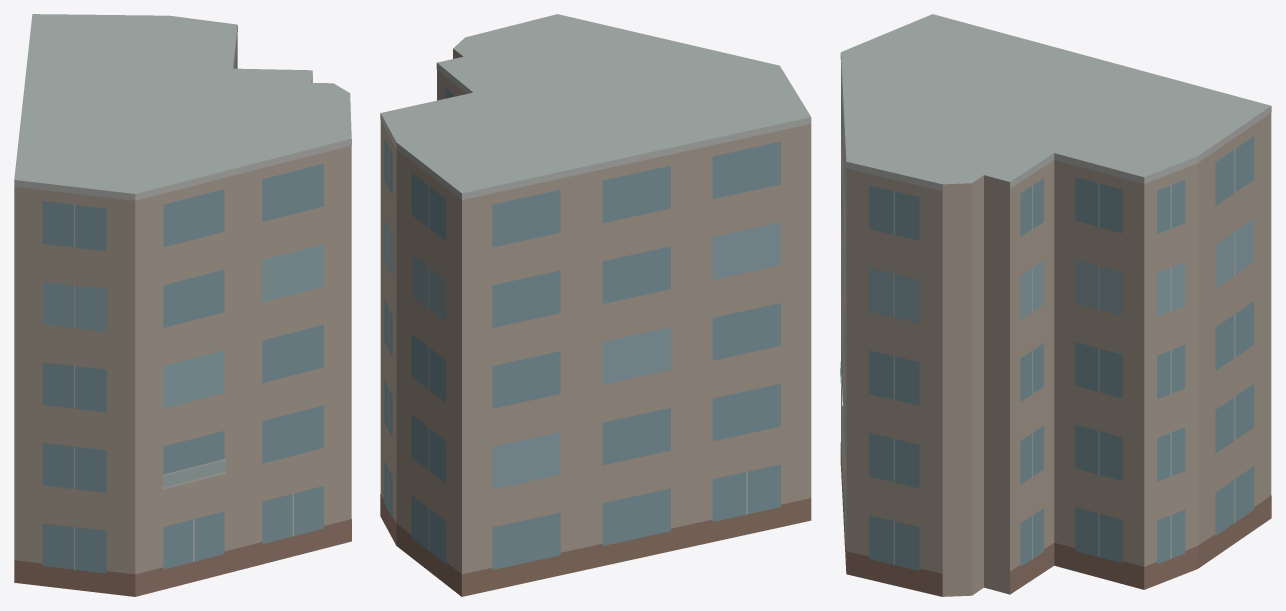
File: survey-upis-33011679.glb
3 renders of one model, left to right at view 1: azimuth 30°, elevation 25°; view 2: azimuth 150°, elevation 25°; view 3: azimuth 270°, elevation 25°, orthographic. The views are drawn at different scales.
Parts seen in each view (by area): view 1: survey-upis-33011679.tmp; view 2: survey-upis-33011679.tmp; view 3: survey-upis-33011679.tmp.
Part boxes in pixels (left/top/right/bottom): survey-upis-33011679.tmp: left=14, top=14, right=351, bottom=596; survey-upis-33011679.tmp: left=380, top=14, right=811, bottom=596; survey-upis-33011679.tmp: left=840, top=14, right=1271, bottom=596.
Bounding box in the file's own units: 13.03 × 14.7 × 13.92.
